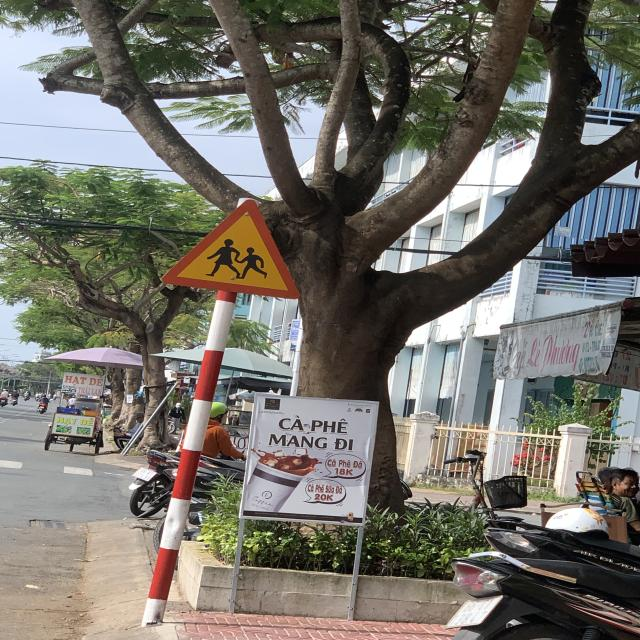Vong_Xuyen: (158, 201, 300, 301)
